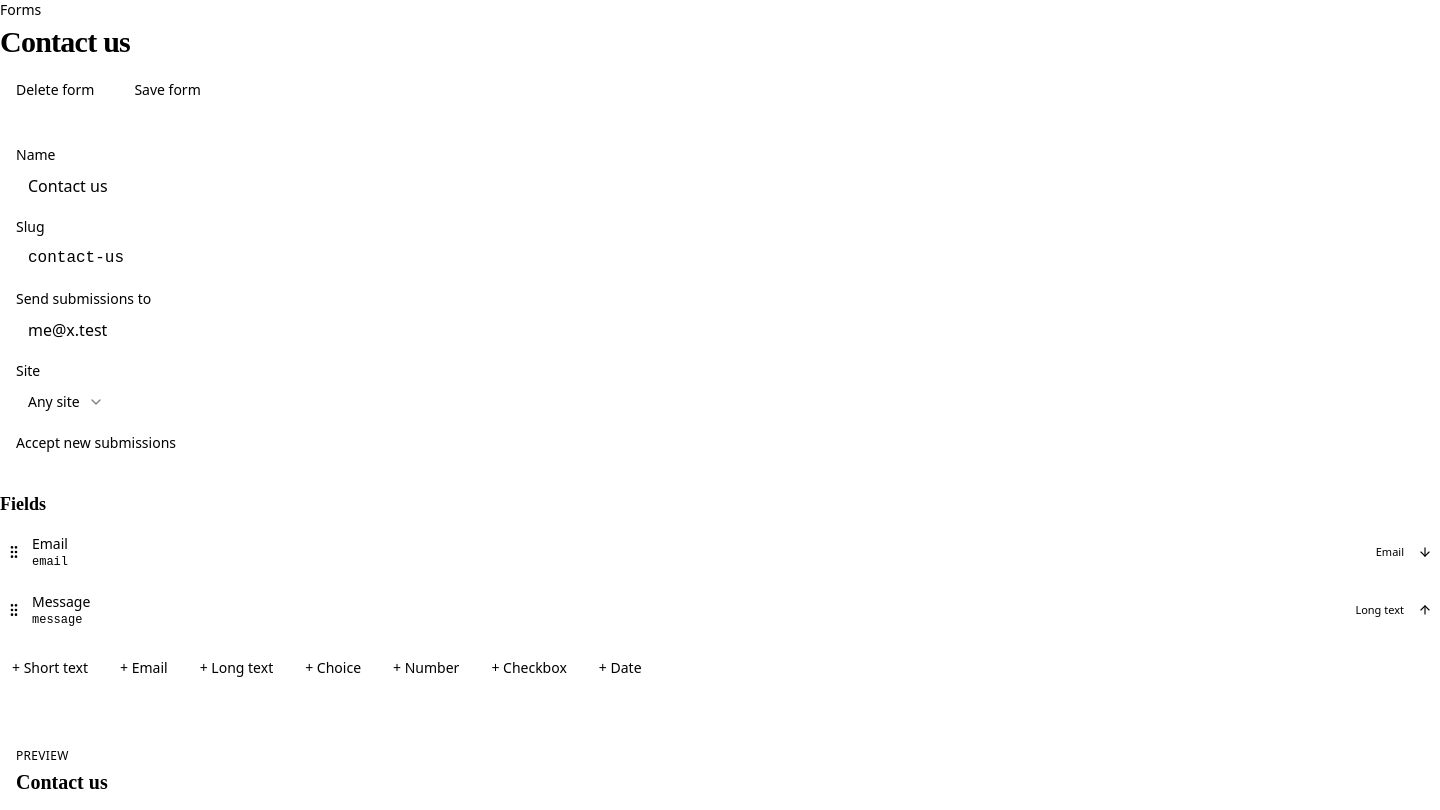
Scenario: warns that deleting removes the submissions
Click the button "Delete form".
click(55, 90)  # box [0, 72, 110, 108]
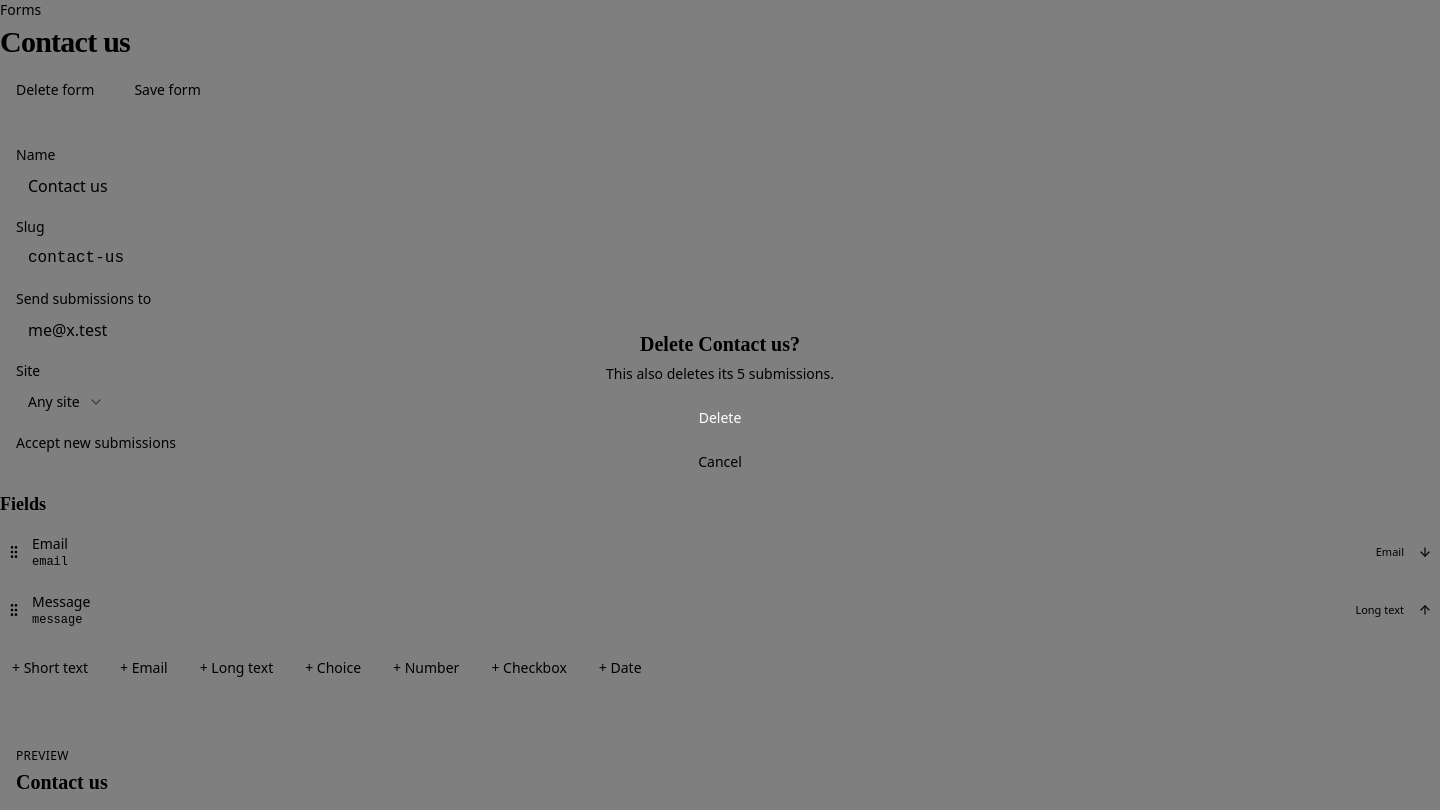
Now the dialog shows "5 submissions", box [606, 364, 834, 383]
